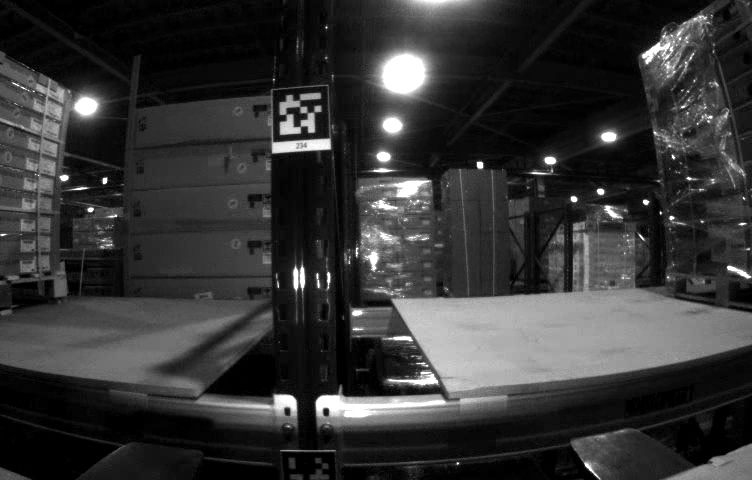True Barcode: (448, 346, 483, 375)
